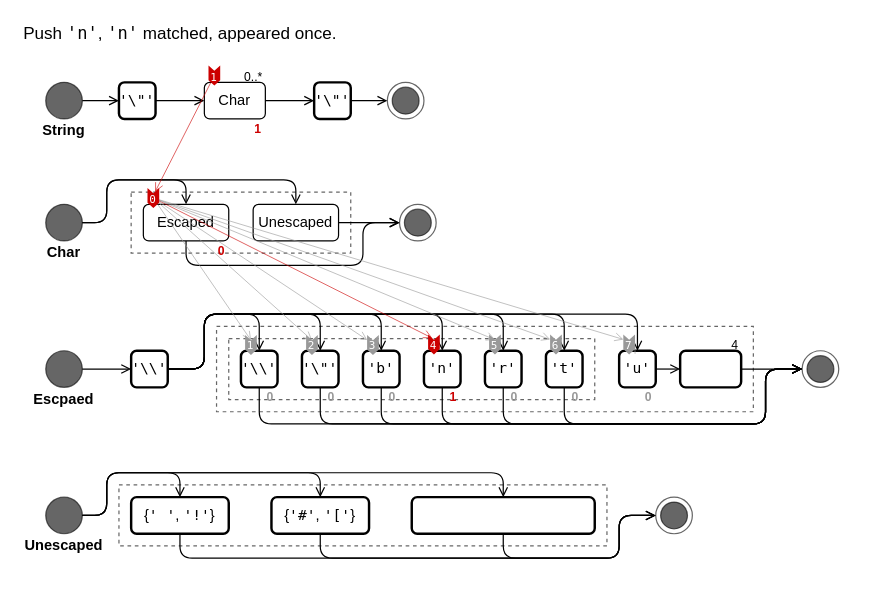
The diagram is 871 pixels wide and 590 high, and some of its shapes have lost their labels. Here are the shapes that lost their labels. From the top down, the centre of each, then its label:
the point at 710,368: Hex
the point at 502,514: { ']' , '\u{10FFFF}' }
